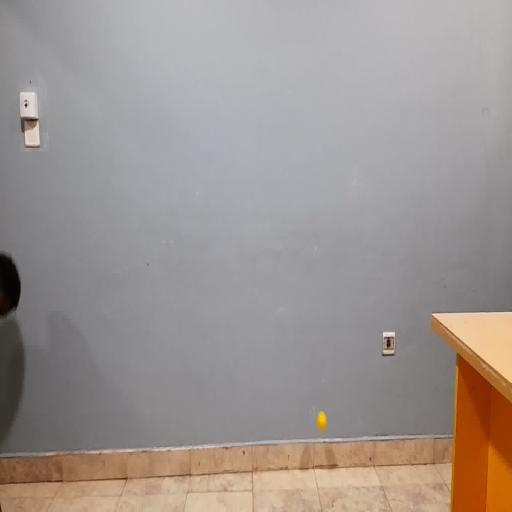plastic-ball: (317, 411, 327, 431)
